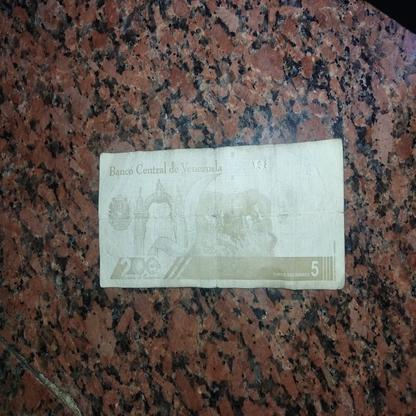five-back-vef: (97, 138, 345, 289)
